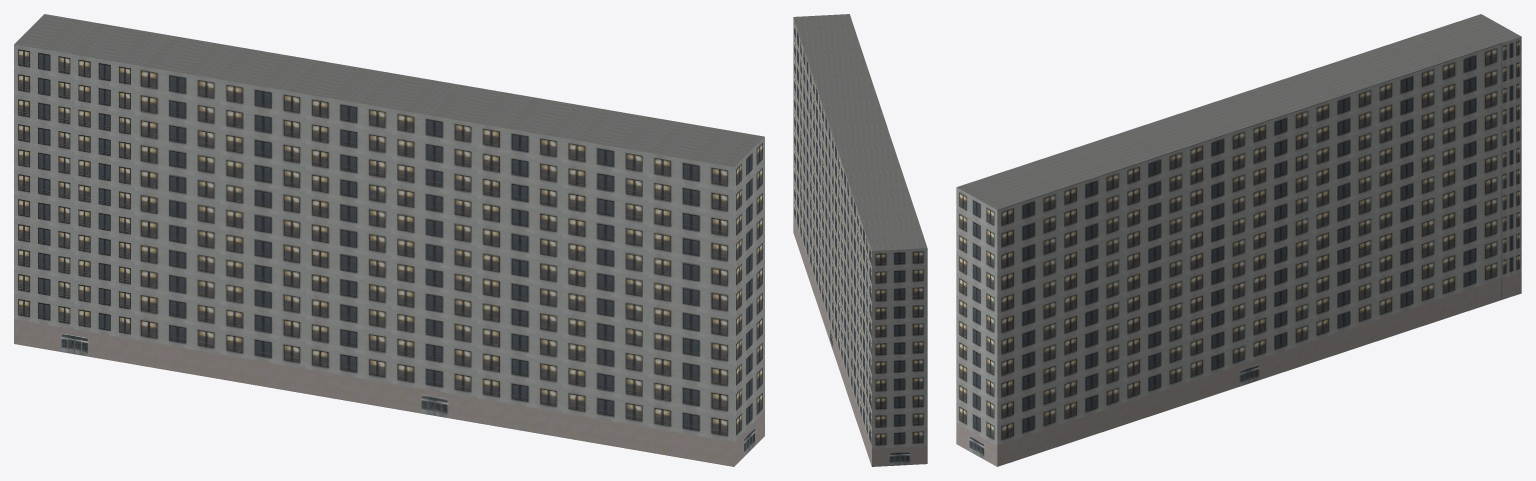
3 renders of one model, left to right at view 1: azimuth 30°, elevation 25°; view 2: azimuth 150°, elevation 25°; view 3: azimuth 270°, elevation 25°, orthographic. The views are drawn at different scales.
Parts seen in each view (by area): view 1: BuildingMaster_1978193275814463145200000000_0, BuildingMaster_1978193275814463145200000000_1; view 2: BuildingMaster_1978193275814463145200000000_0, BuildingMaster_1978193275814463145200000000_1; view 3: BuildingMaster_1978193275814463145200000000_0, BuildingMaster_1978193275814463145200000000_1.
Part boxes in pixels (left/top/right/bottom): BuildingMaster_1978193275814463145200000000_0: left=14, top=44, right=764, bottom=466; BuildingMaster_1978193275814463145200000000_1: left=14, top=14, right=764, bottom=167; BuildingMaster_1978193275814463145200000000_0: left=793, top=17, right=927, bottom=466; BuildingMaster_1978193275814463145200000000_1: left=793, top=14, right=927, bottom=250; BuildingMaster_1978193275814463145200000000_0: left=956, top=36, right=1521, bottom=466; BuildingMaster_1978193275814463145200000000_1: left=957, top=14, right=1520, bottom=209.
Bounding box in the file's own units: 68.71 × 42 × 83.7.
Materials: 2 (2 with a texture image).
